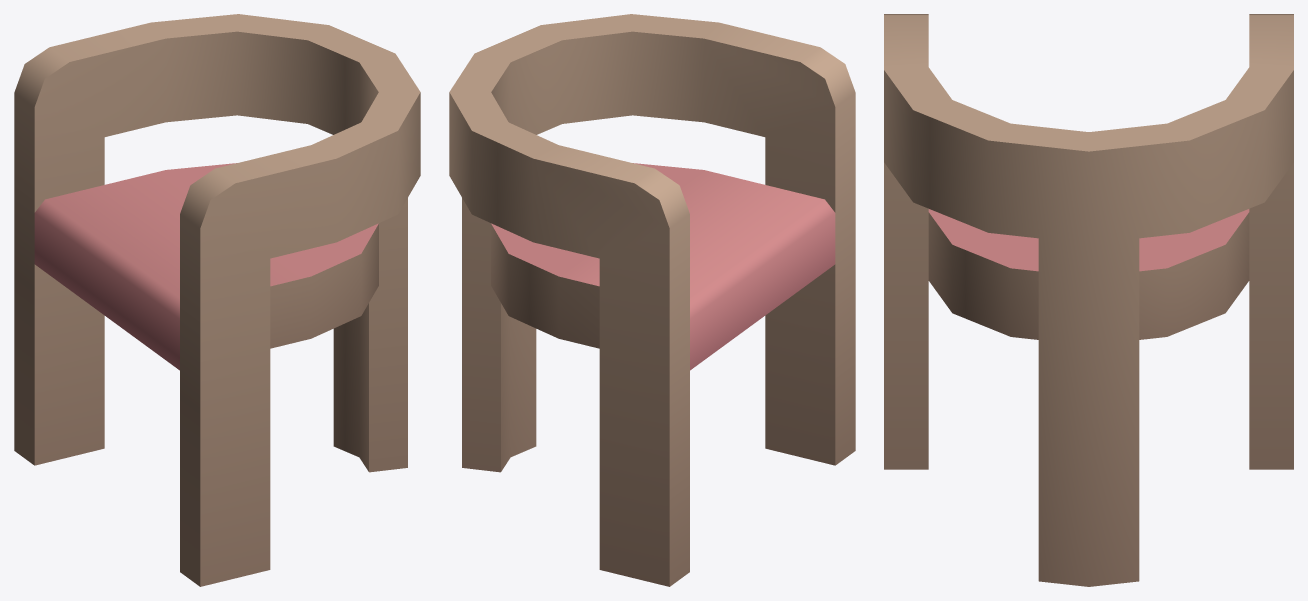
The model's file is wooden-chair-medieval-round.glb.
3 views of the same model, side by side, from view 1: azimuth 30°, elevation 25°; view 2: azimuth 150°, elevation 25°; view 3: azimuth 270°, elevation 25° (orthographic). The views are drawn at different scales.
Parts seen in each view (by area): view 1: wooden-chair-medieval-round; view 2: wooden-chair-medieval-round; view 3: wooden-chair-medieval-round.
Part boxes in pixels (<box>): wooden-chair-medieval-round: <box>14,14,420,586</box>; wooden-chair-medieval-round: <box>449,14,855,586</box>; wooden-chair-medieval-round: <box>884,14,1293,586</box>.
Bounding box in the file's own units: 0.4117 × 0.5394 × 0.46.
